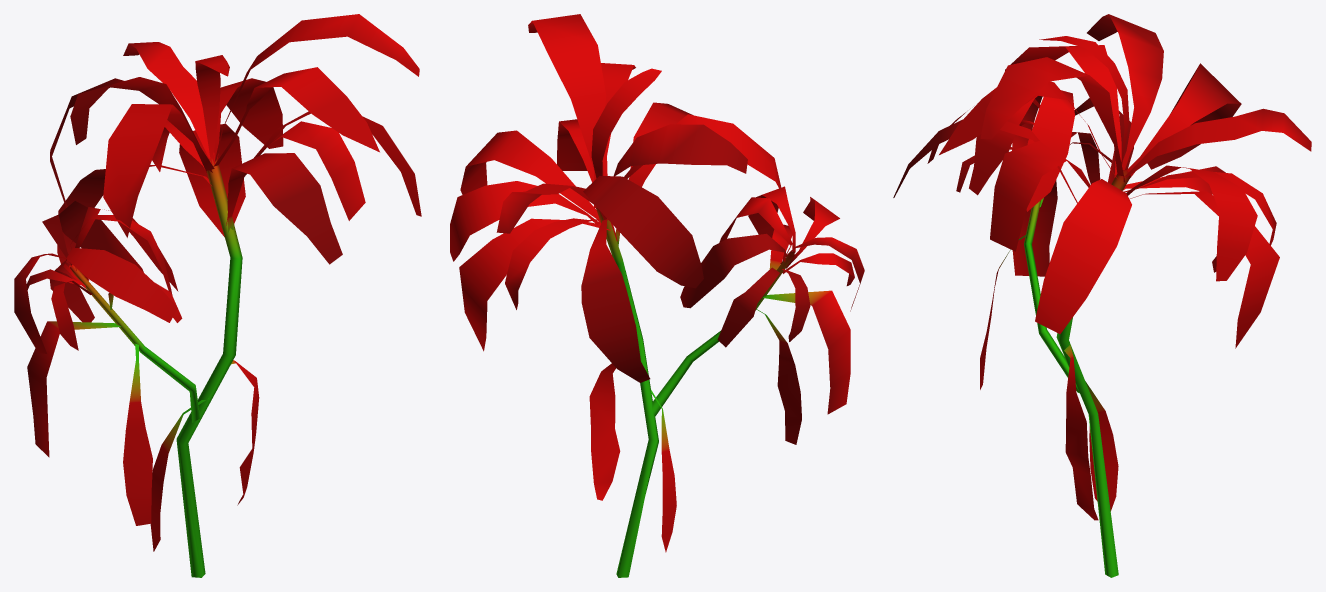
The model's file is Var5_LOD2.fbx.
3 views of the same model, side by side, from view 1: azimuth 30°, elevation 25°; view 2: azimuth 150°, elevation 25°; view 3: azimuth 270°, elevation 25° (orthographic). The views are drawn at different scales.
Visible parts, largest first — view 1: _5c73_Var5_LOD2; view 2: _5c73_Var5_LOD2; view 3: _5c73_Var5_LOD2.
Part boxes in pixels (box(x1,y1,x2,y2)): _5c73_Var5_LOD2: box(14, 14, 421, 577); _5c73_Var5_LOD2: box(450, 14, 864, 577); _5c73_Var5_LOD2: box(893, 14, 1311, 577).
Bounding box in the file's own units: 47.3 × 60.28 × 41.05.
